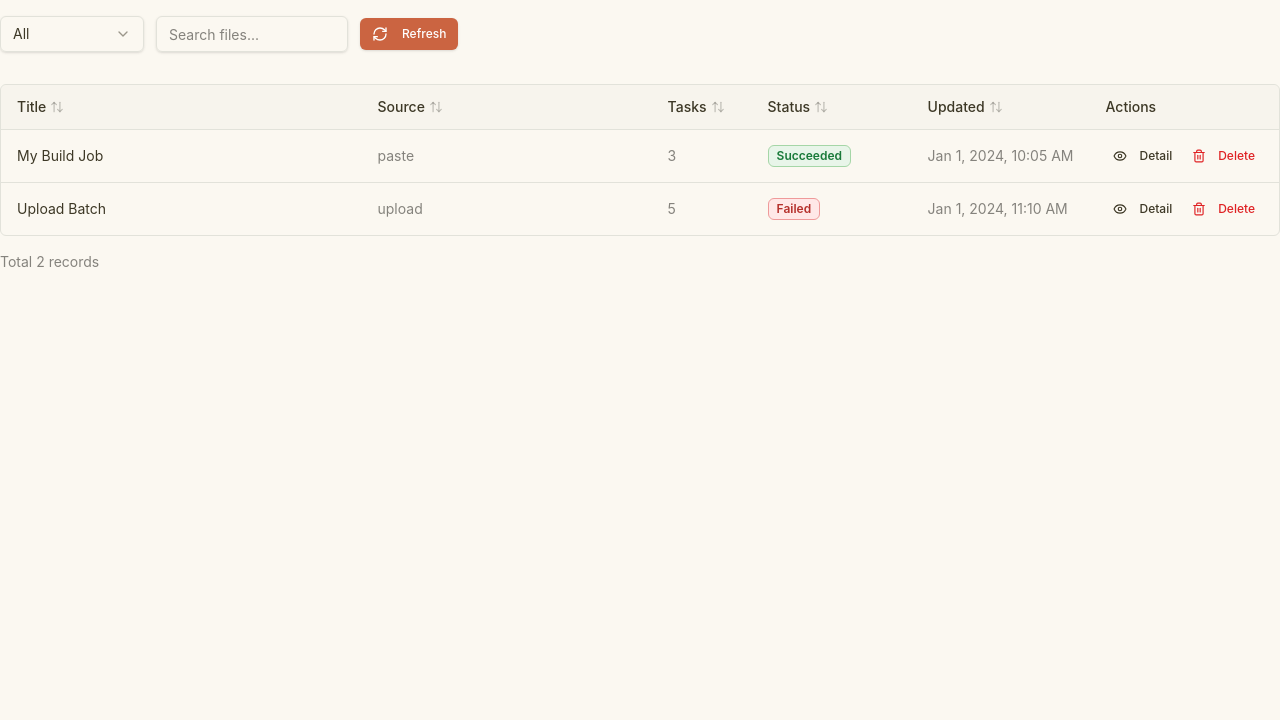
Test case: BuildJobsTab › delete confirmation › asks for confirmation before deleting
Click the button "Delete" in the row of "My Build Job": click(1224, 156) 1184,142 -> 1263,170
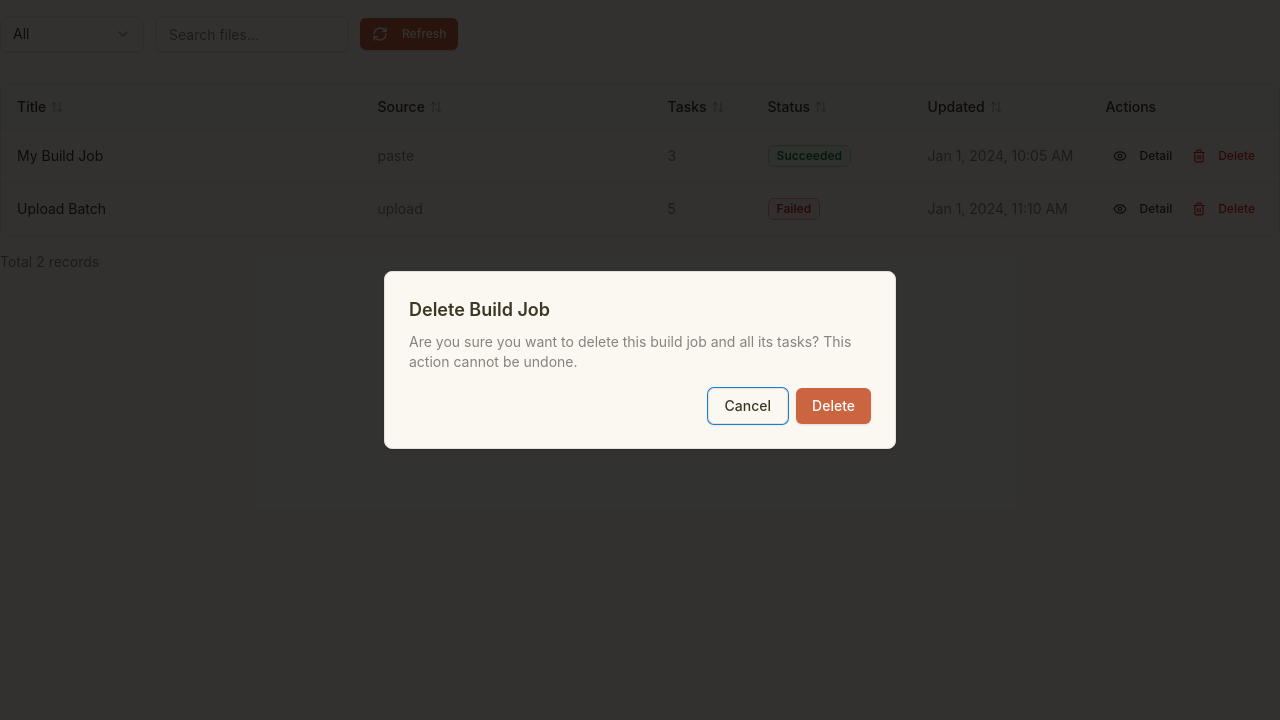
Check: the dialog shows "Delete Build Job", box 409,299 -> 550,320
